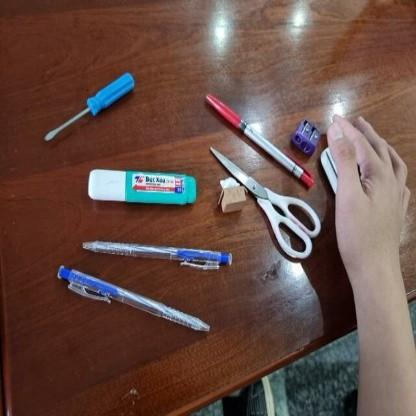not trash: (198, 88, 319, 191), (53, 263, 211, 337), (40, 71, 130, 147), (74, 236, 246, 271), (84, 163, 202, 208), (212, 174, 248, 216)
